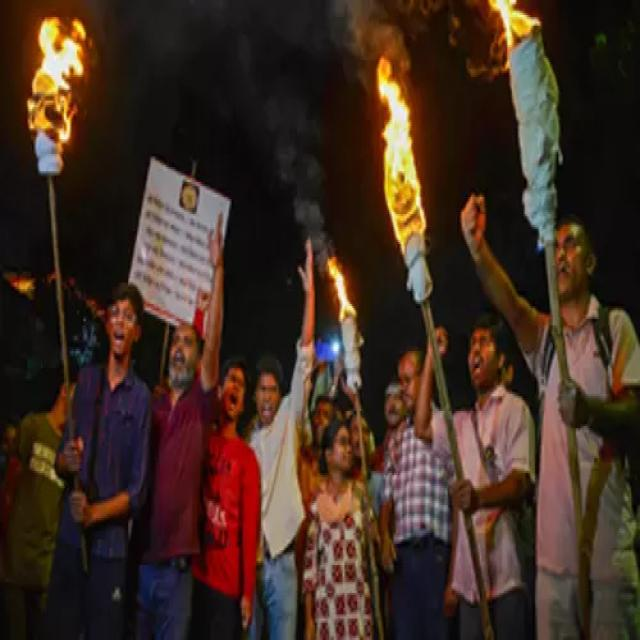fire: (378, 54, 427, 254), (25, 13, 86, 144), (489, 0, 539, 68), (326, 252, 358, 321)
